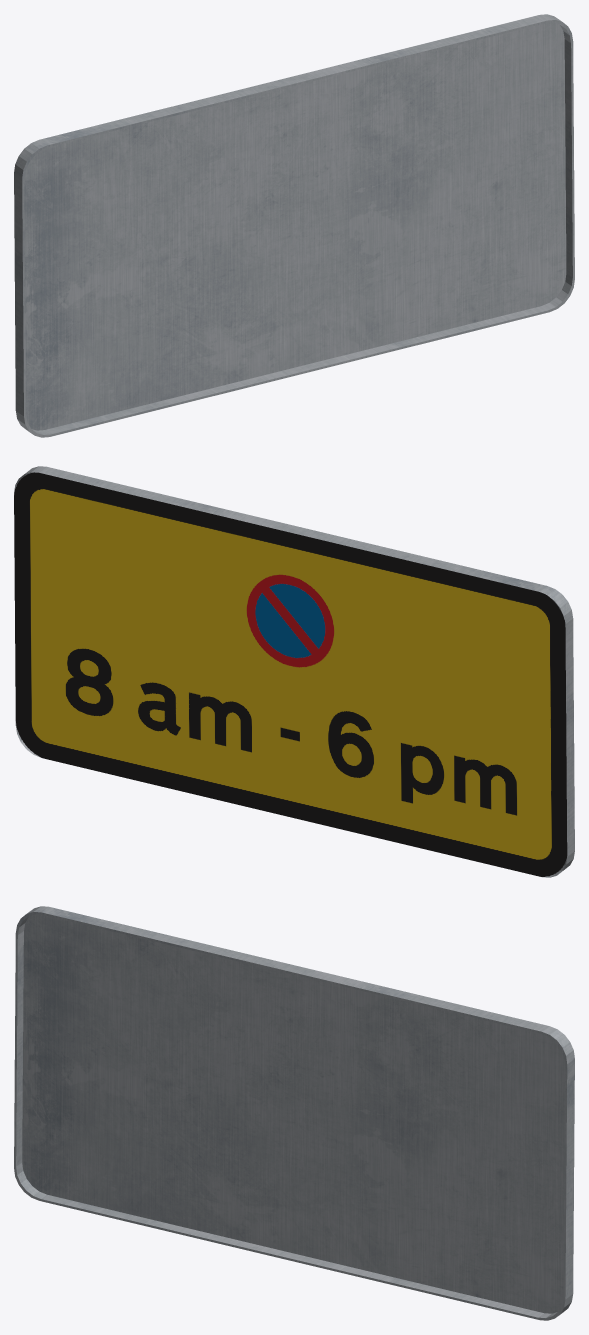
Rendered from Waiting_prohibited_during_period.fbx.
3 renders of one model, top to bottom at view 1: azimuth 30°, elevation 25°; view 2: azimuth 150°, elevation 25°; view 3: azimuth 330°, elevation 25°, orthographic.
Parts seen in each view (by area): view 1: Waiting prohibited during period; view 2: Waiting prohibited during period; view 3: Waiting prohibited during period.
Part boxes in pixels (<box>): Waiting prohibited during period: <box>14,14,574,437</box>; Waiting prohibited during period: <box>14,466,574,877</box>; Waiting prohibited during period: <box>14,906,574,1320</box>.
Size of the model in its own units: 0.0333 by 0.8002 by 0.4003.
